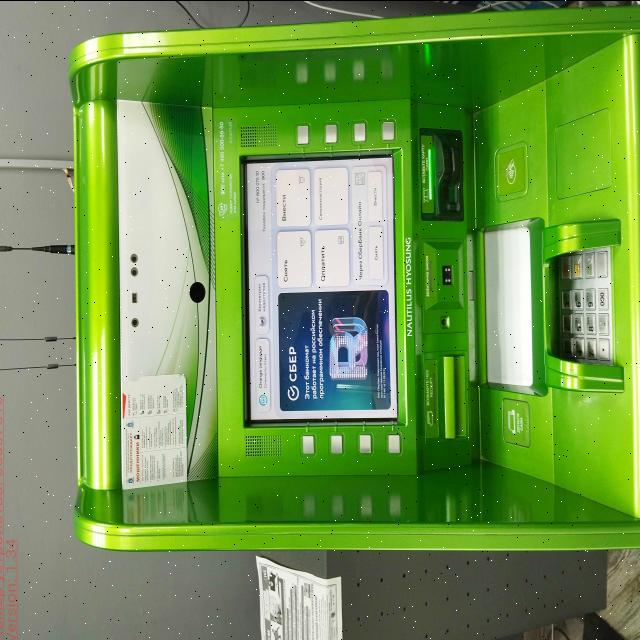bank: (74, 1, 640, 548)
